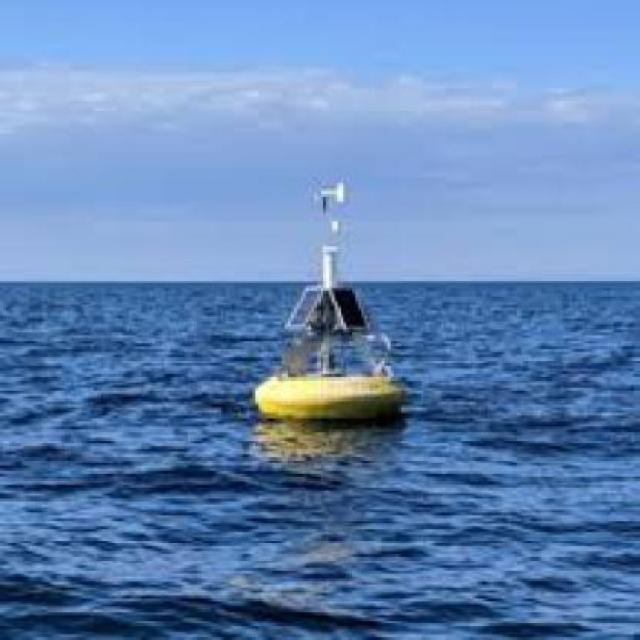buoy: (236, 167, 423, 440)
